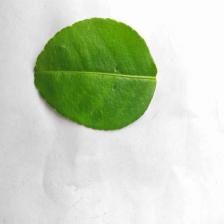greening: (25, 13, 166, 133)
